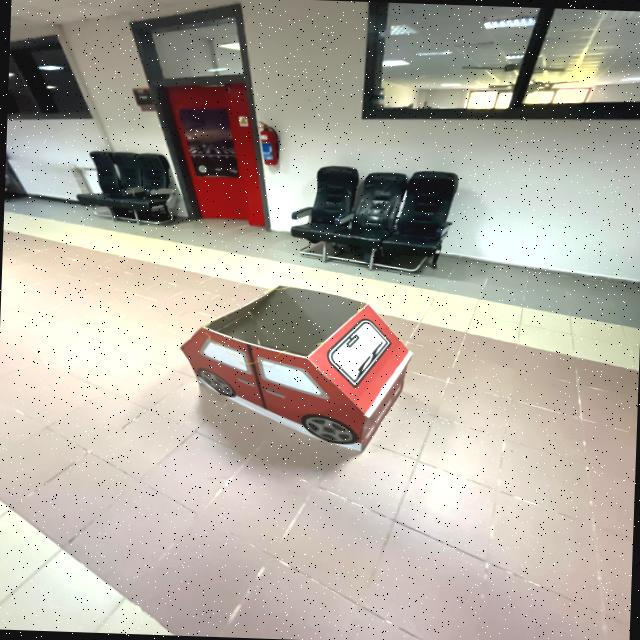red_car: (159, 270, 425, 465)
